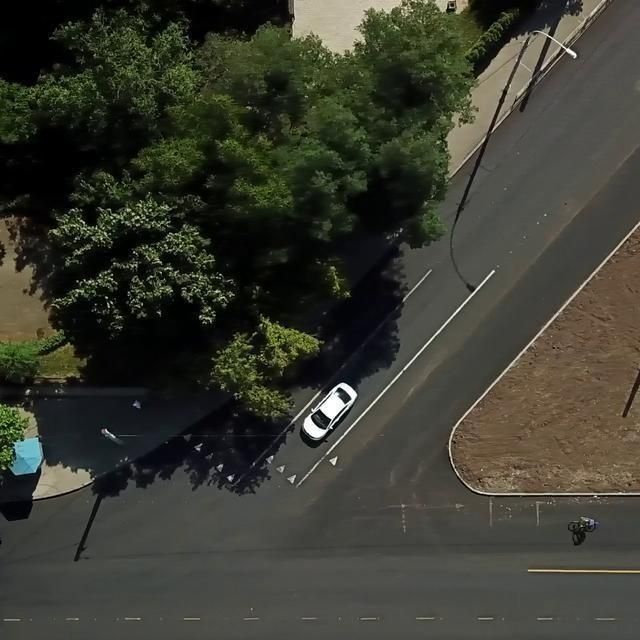Car: (300, 381, 358, 442)
Motorcycle: (568, 518, 598, 532)
